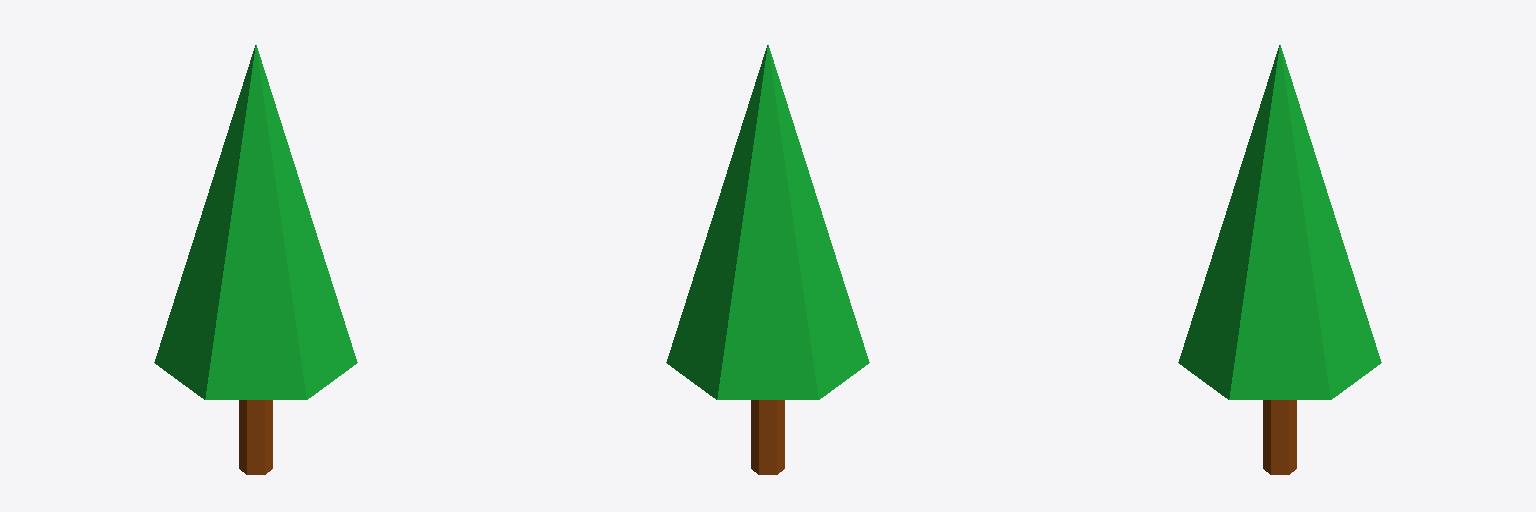
The model's file is tree.obj.
The picture shows the model from 3 angles: view 1: azimuth 30°, elevation 25°; view 2: azimuth 150°, elevation 25°; view 3: azimuth 270°, elevation 25°; orthographic projection.
Bounding box in the file's own units: 43.3 × 115 × 50.